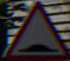Speed Breaker ahead: (10, 8, 56, 52)
